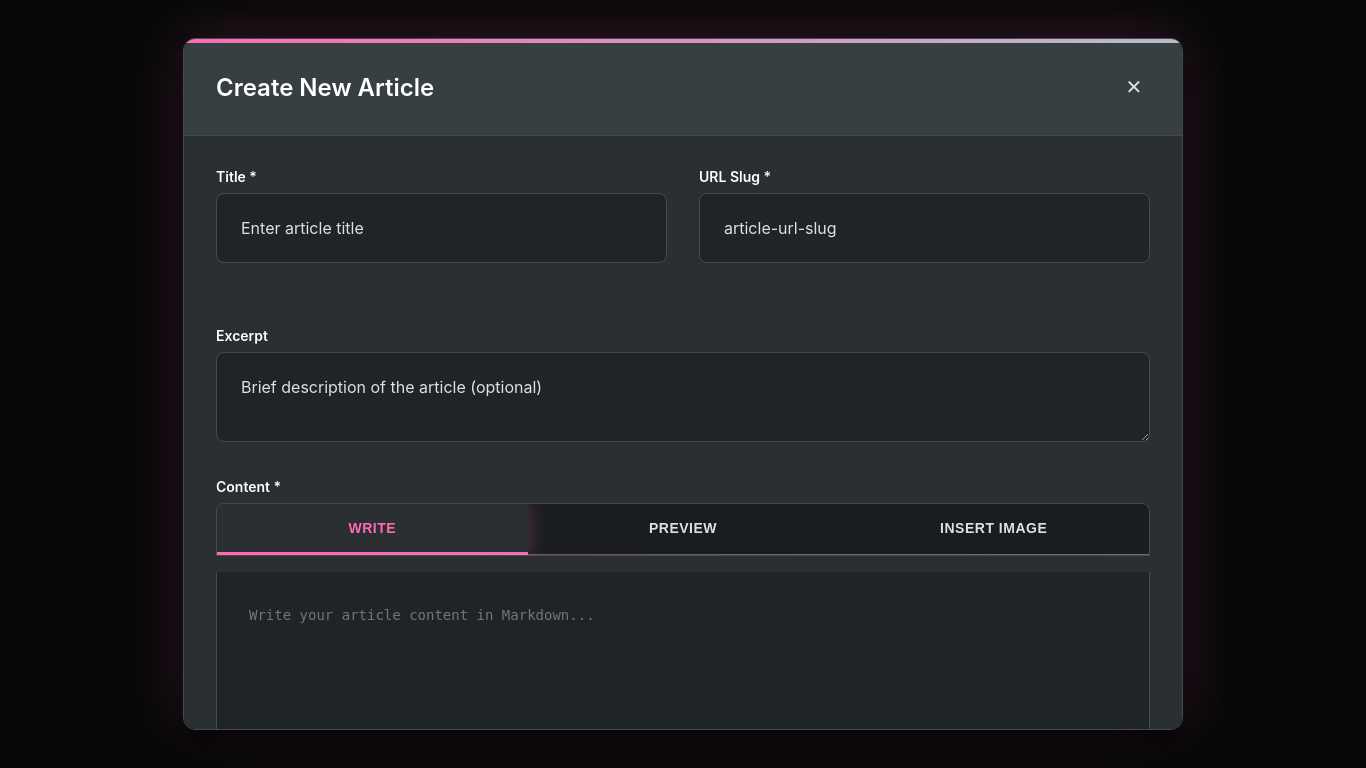
Scenario: ArticleEditor › Slug Generation › auto-generates slug from title in create mode
Type "Hello World Test!" into the field with id "title". click: coordinates (442, 228)
box: [216,193,667,263]
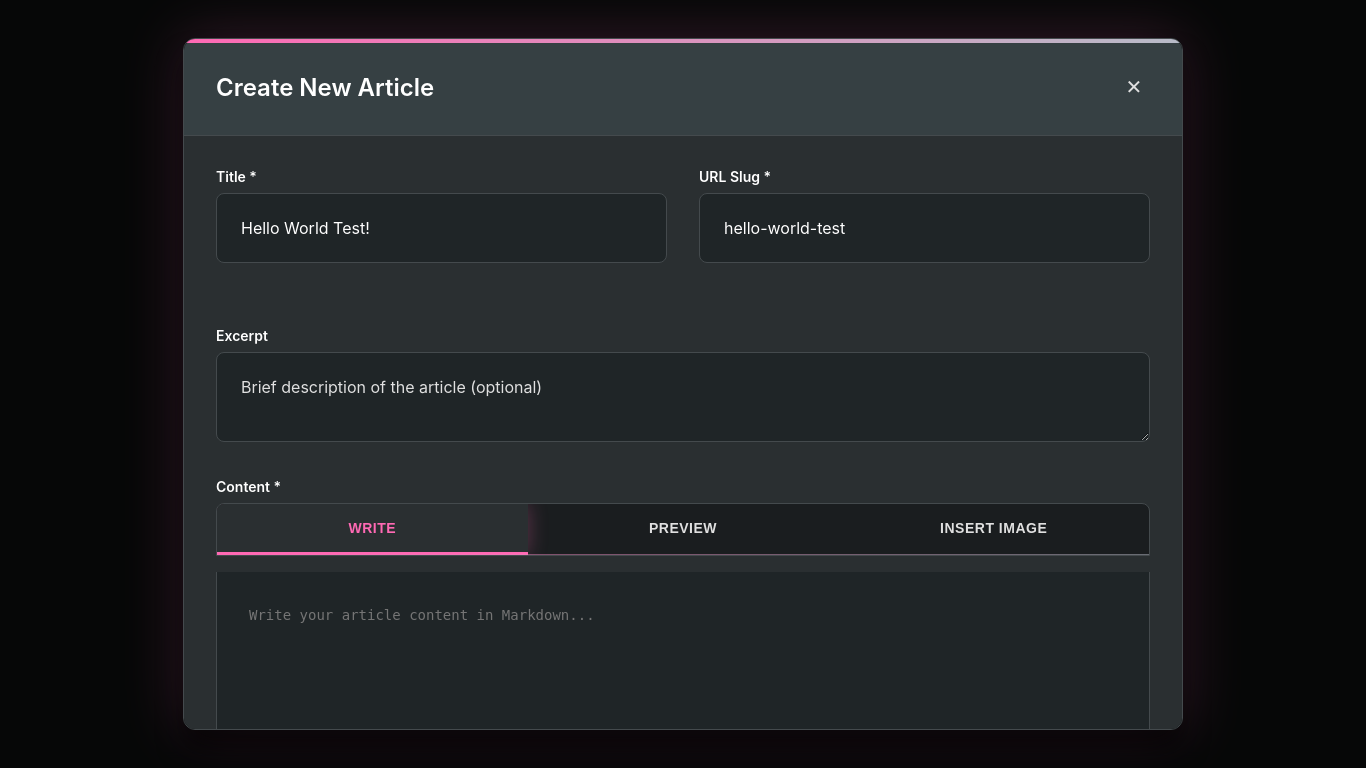
Now the field with id "slug" holds "hello-world-test", box [699,193,1150,263]
